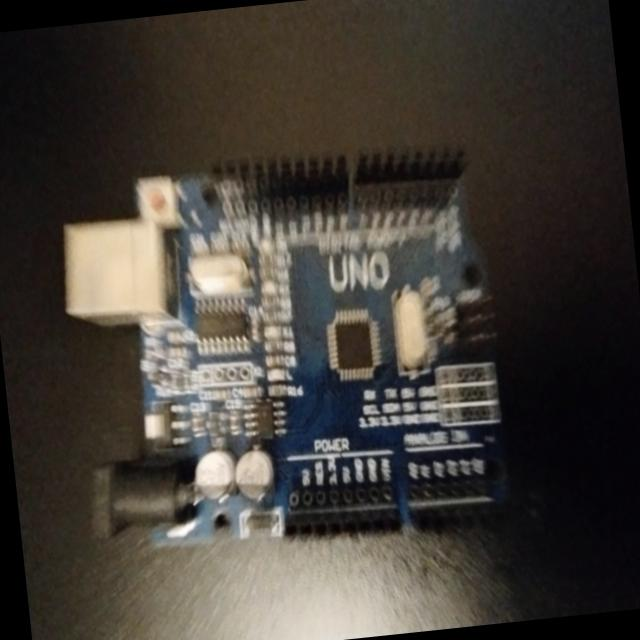arduino: (104, 128, 524, 570)
